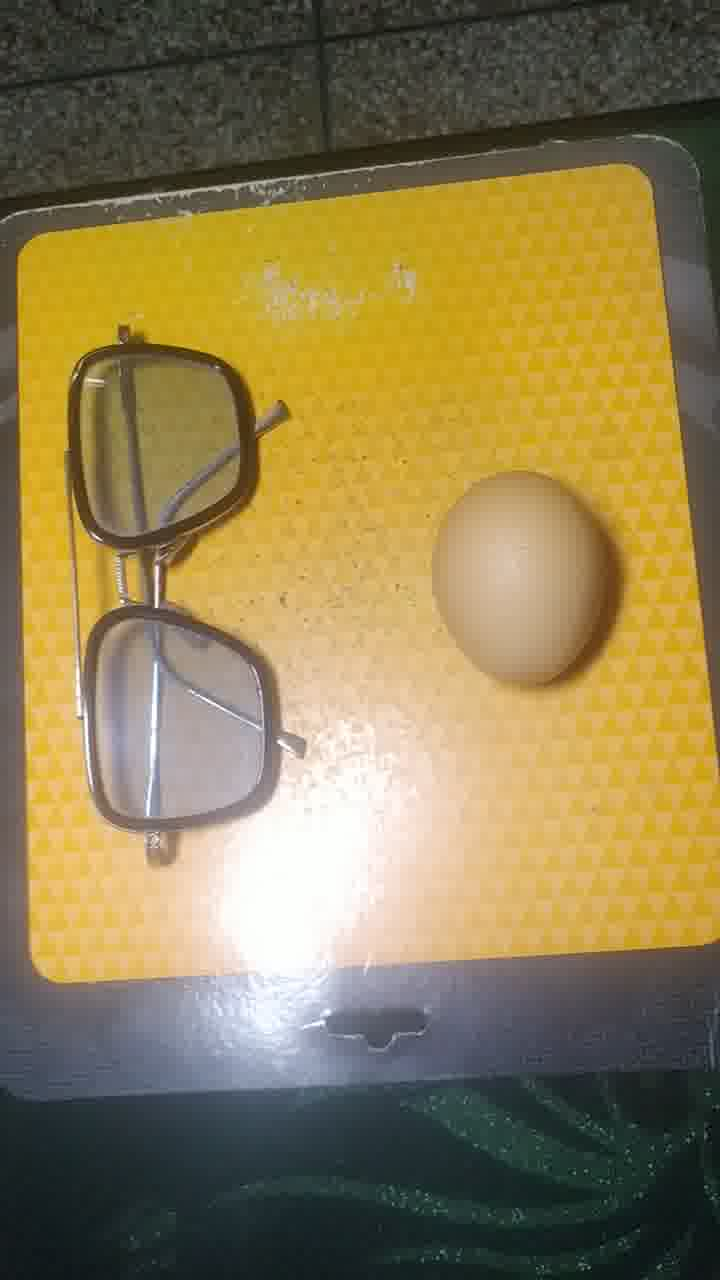egg: (423, 467, 631, 701)
sunglass: (51, 316, 317, 878)
